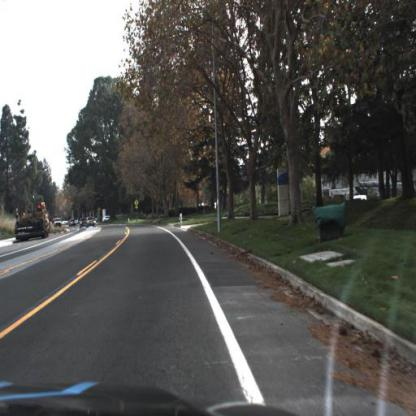truck: (13, 198, 50, 244)
